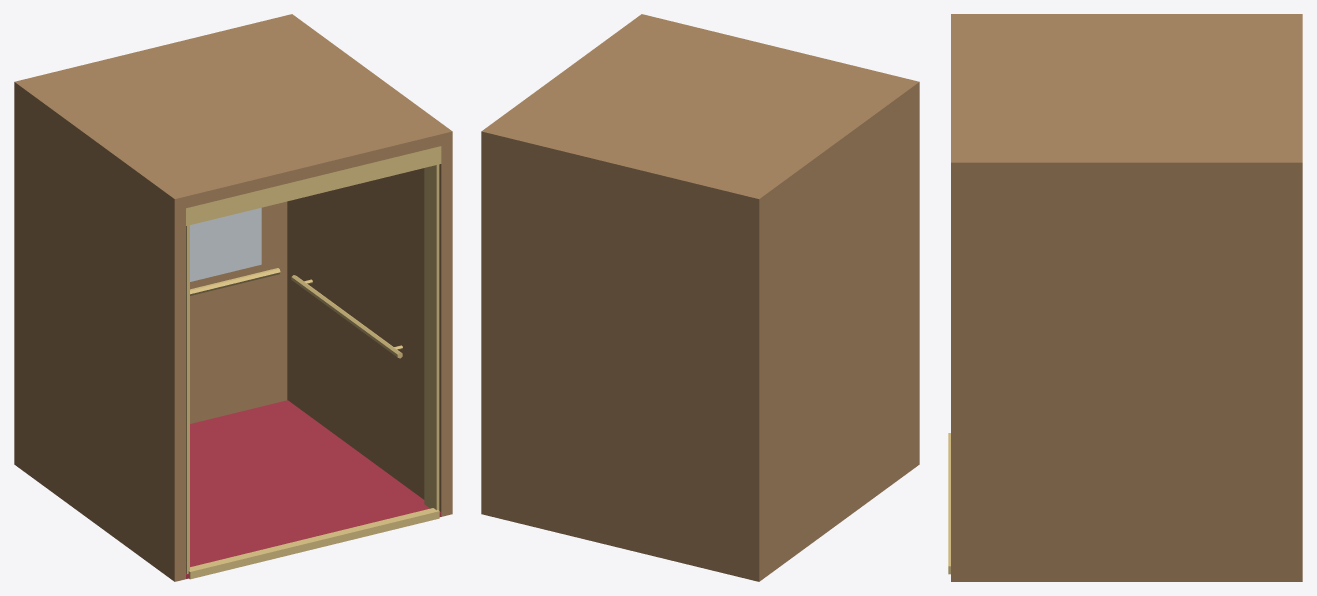
The model's file is HJ_Cabina.fbx.
3 renders of one model, left to right at view 1: azimuth 30°, elevation 25°; view 2: azimuth 150°, elevation 25°; view 3: azimuth 270°, elevation 25°, orthographic. The views are drawn at different scales.
Parts seen in each view (by area): view 1: HJ_Cabina; view 2: HJ_Cabina; view 3: HJ_Cabina.
Boxes of the visible parts, x1,y1,x2,y2 form: HJ_Cabina: (14,14,452,581); HJ_Cabina: (481,14,919,581); HJ_Cabina: (948,14,1302,581).
Size of the model in its own units: 1.96 by 2.58 by 1.97.
